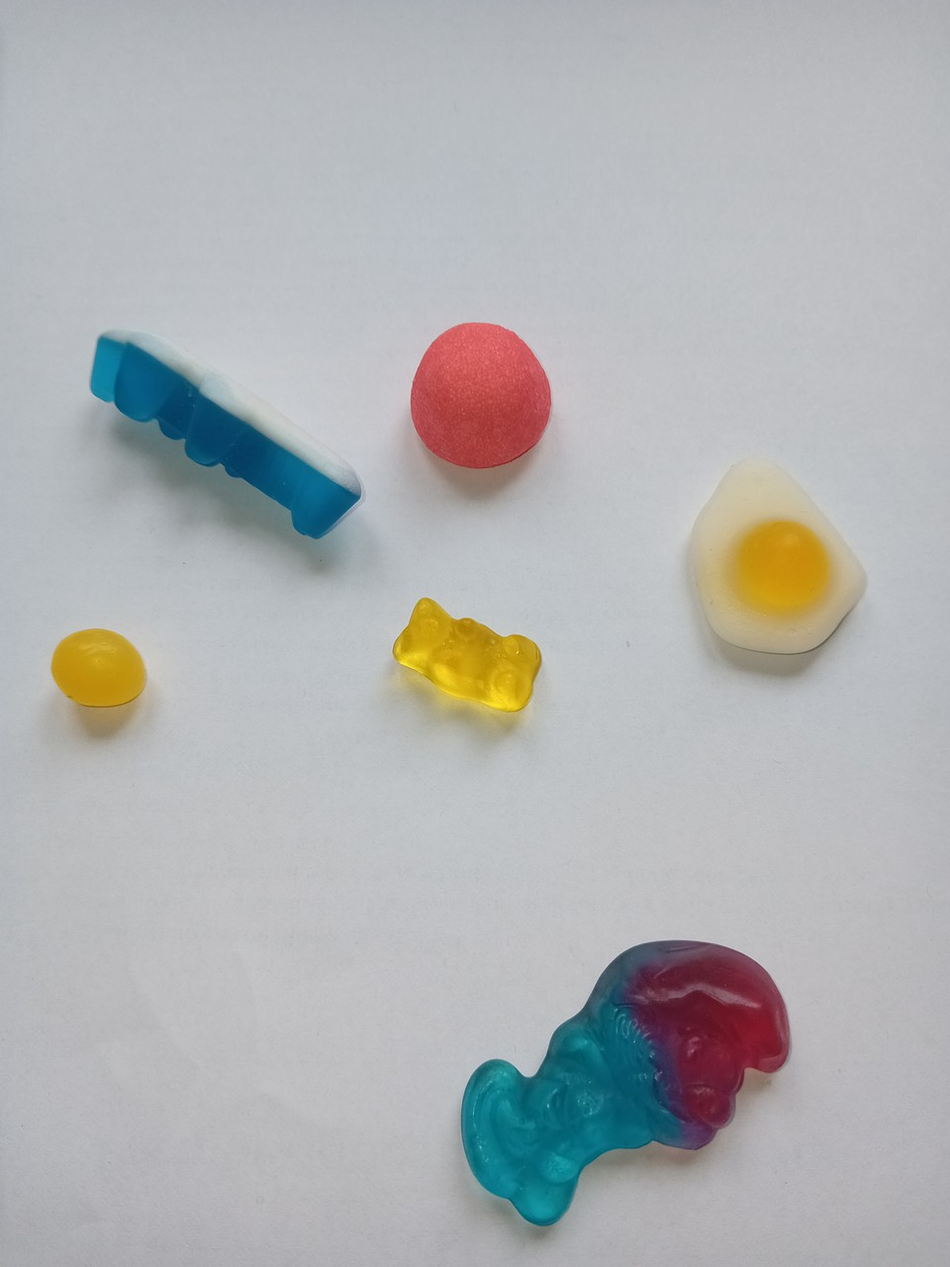crocodile_bleu: (86, 322, 365, 554)
dragibus_jaune: (47, 619, 151, 713)
oeuf_oeuf: (680, 445, 871, 657)
ourson_jaune: (383, 590, 549, 716)
schtroumpf_bleu-rouge: (432, 929, 797, 1233)
tagada_fraise: (403, 319, 563, 473)
